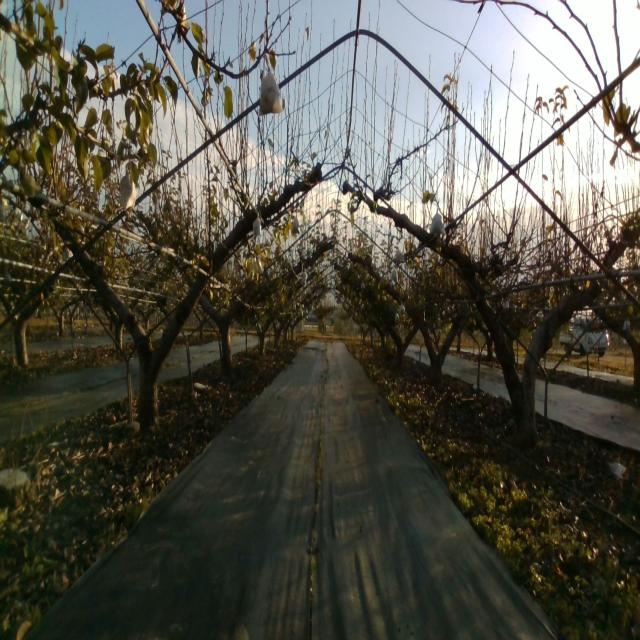pearbags: (258, 65, 282, 116), (119, 176, 136, 216), (429, 209, 446, 237)
